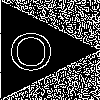O: (8, 25, 53, 70)
